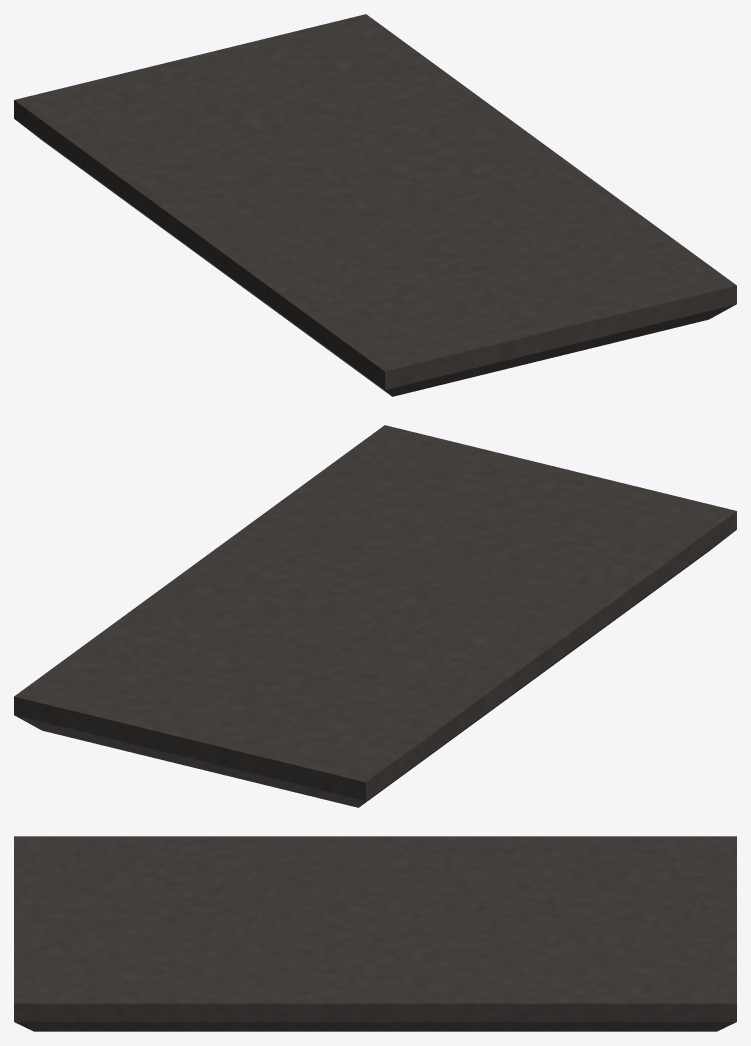
The model's file is Light.fbx.
3 renders of one model, top to bottom at view 1: azimuth 30°, elevation 25°; view 2: azimuth 150°, elevation 25°; view 3: azimuth 270°, elevation 25°, orthographic. The views are drawn at different scales.
Parts seen in each view (by area): view 1: Light1; view 2: Light1; view 3: Light1.
Boxes of the visible parts, bbox=[...] form: Light1: bbox=[14, 14, 736, 396]; Light1: bbox=[14, 425, 736, 807]; Light1: bbox=[14, 836, 736, 1031].
Bounding box in the file's own units: 0.6378 × 0.0646 × 1.16.
Materials: 1 (1 with a texture image).
